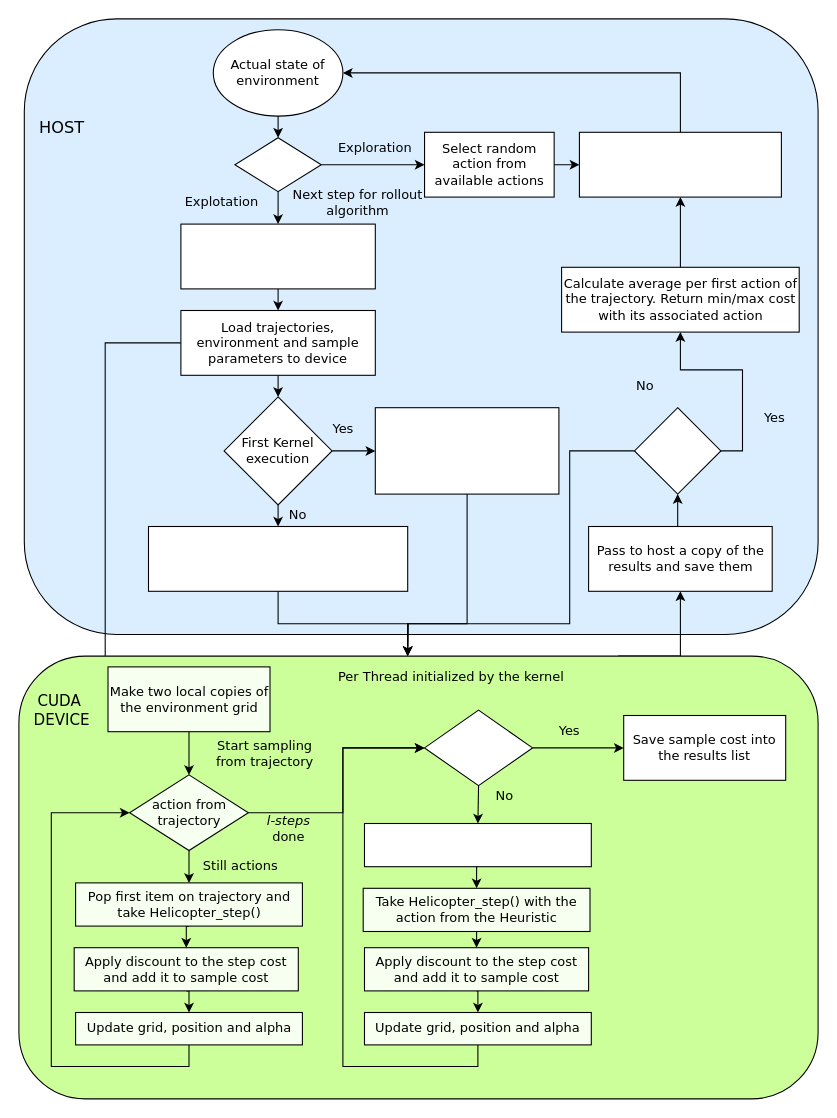
This 837x1118 diagram has some shape labels left out. The shapes that lost their labels are listed below. From the top down, each one's centre as x and y in pixels, then its label:
pixel 277 164: e-greedy
pixel 679 164: Take step on the original environment. Save the cost associated.
pixel 277 256: Calculate the possible trajectories given the l -step lookahead
pixel 466 450: Compile Kernel and initialize kernel given the number of trajectories
pixel 677 450: N_samples
pixel 277 558: Change kernel parameters and reinitialize with new number of trajectories
pixel 478 747: K-steps
pixel 477 844: Pass to Heuristic() the last observation, and parameters
